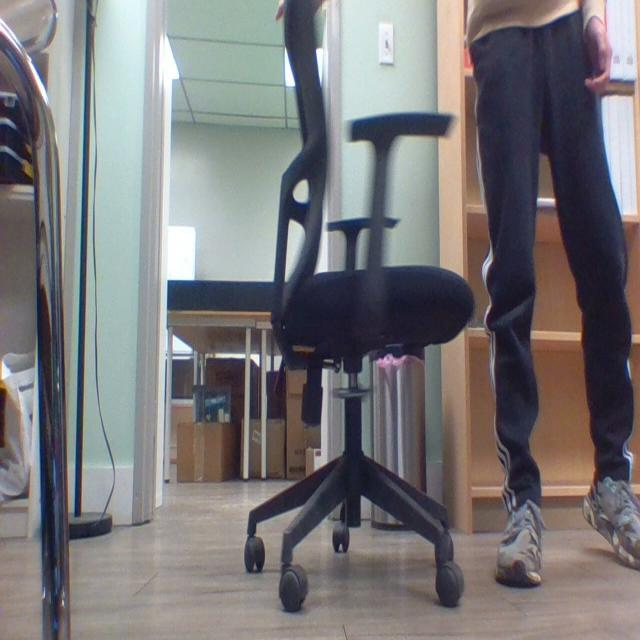chair: (217, 0, 482, 466)
